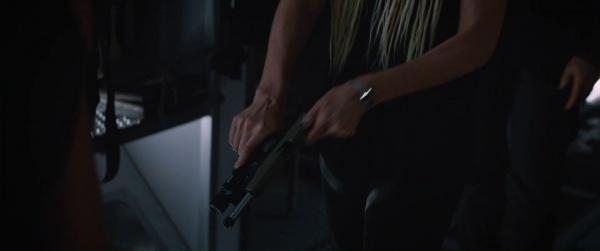Gun: (212, 112, 309, 231)
